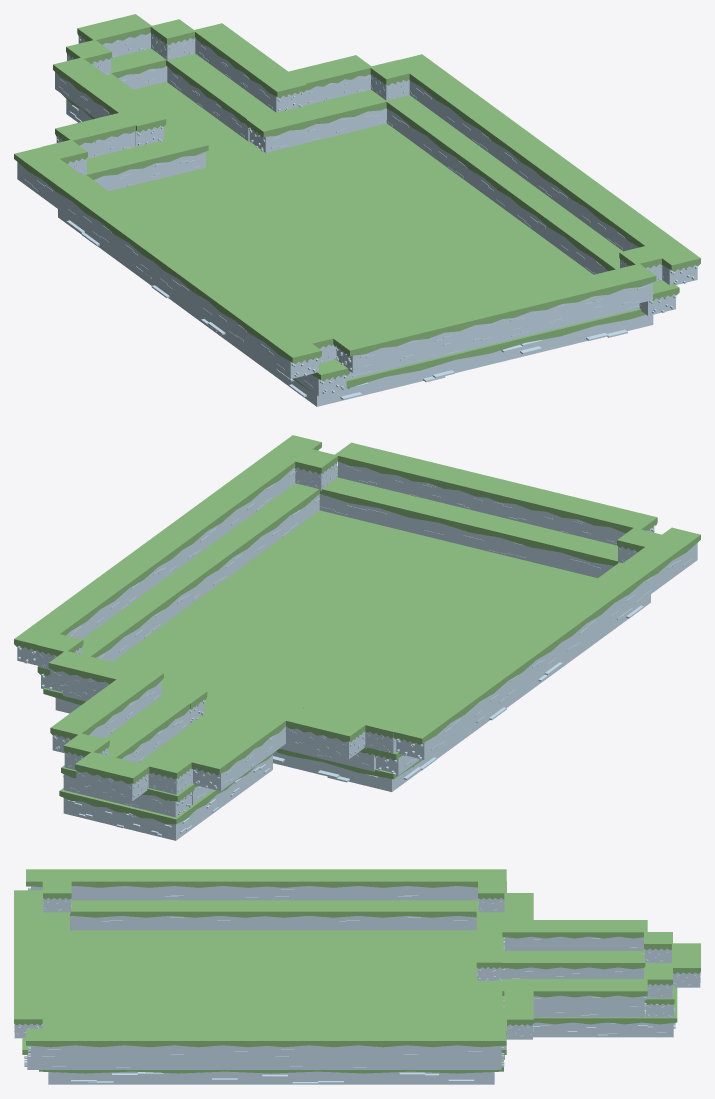
Rendered from stage4ground.fbx.
3 views of the same model, one above another, from view 1: azimuth 30°, elevation 25°; view 2: azimuth 150°, elevation 25°; view 3: azimuth 270°, elevation 25° (orthographic). The views are drawn at different scales.
Parts seen in each view (by area): view 1: grass.009, ground.019, grass.026, grass.028, grass.025, grass.027, grass.013, grass.024, grass.023, grass.014, grass.004, grass.005 (+44 smaller); view 2: grass.009, grass.016, grass.025, grass.027, grass.026, grass.028, ground.019, grass.024, grass.023, grass.013, grass.014, grass.004 (+44 smaller); view 3: grass.009, grass.027, grass.028, grass.025, grass.026, ground.019, grass.012, grass.015, grass.016, grass.005, grass.002, grass.004 (+39 smaller).
Boxes of the visible parts, x1,y1,x2,y2 form: grass.009: (109,123,645,393); ground.019: (58,209,653,406); grass.026: (149,246,321,364); grass.028: (528,153,700,271); grass.025: (14,147,185,260); grass.027: (394,54,564,168); grass.013: (381,95,534,196); grass.024: (333,300,506,356); grass.023: (483,263,656,318); grass.014: (507,184,679,300); grass.004: (194,23,306,98); grass.005: (53,57,166,132); grass.009: (43,510,597,779); grass.016: (320,476,617,565); grass.025: (394,628,564,744); grass.027: (14,534,185,651); grass.026: (529,527,700,644); grass.028: (151,435,321,551); ground.019: (55,594,650,791); grass.024: (484,479,657,533); grass.023: (335,442,506,497); grass.013: (37,563,209,675); grass.014: (183,466,337,577); grass.004: (50,666,163,739); grass.009: (39,930,503,1073); grass.027: (259,1028,506,1047); grass.028: (26,1028,272,1047); grass.025: (259,869,506,887); grass.026: (26,869,272,887); ground.019: (43,1071,494,1084); grass.012: (259,900,478,917); grass.015: (43,900,268,917); grass.016: (42,911,69,1028); grass.005: (502,920,647,938); grass.002: (502,951,645,969); grass.004: (502,979,647,997).
Size of the model in its own units: 5824 by 921 by 9849.
